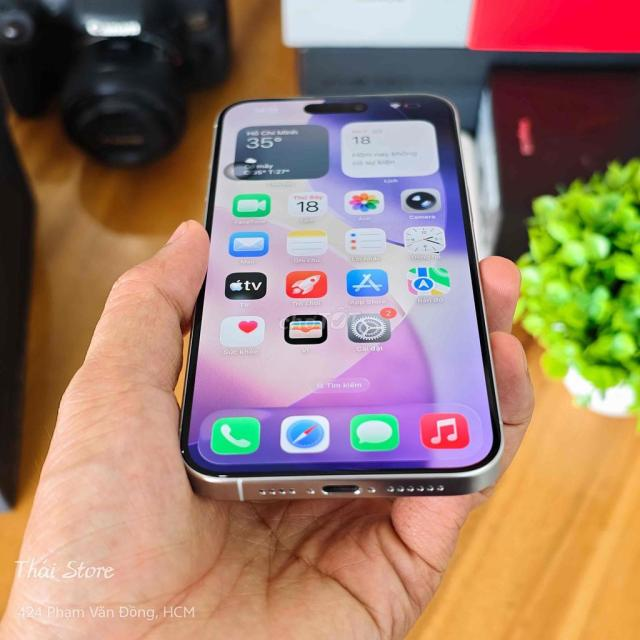gen_15: (178, 85, 507, 508)
